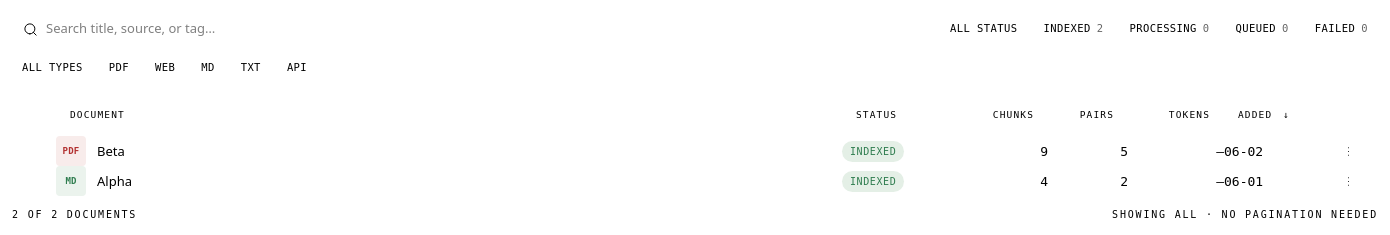
Scenario: search filters rows
Type "alpha" into the field with placeholder "Search title, source, or tag…" at (214, 29), box [46, 19, 381, 39]
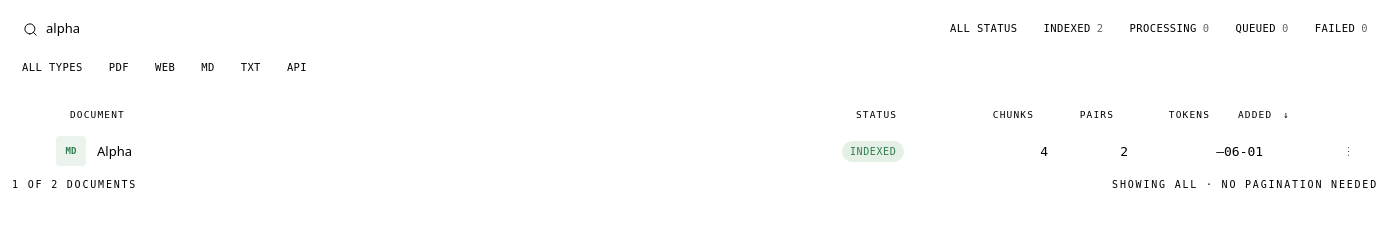
Check: the text "Alpha" is shown, box [97, 142, 132, 161]
Check: the text "Beta" is gone
